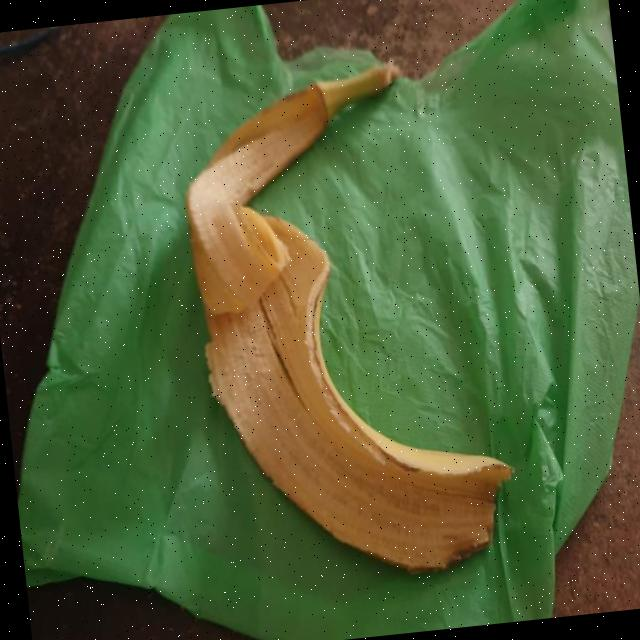banana-peel: (170, 50, 524, 594)
